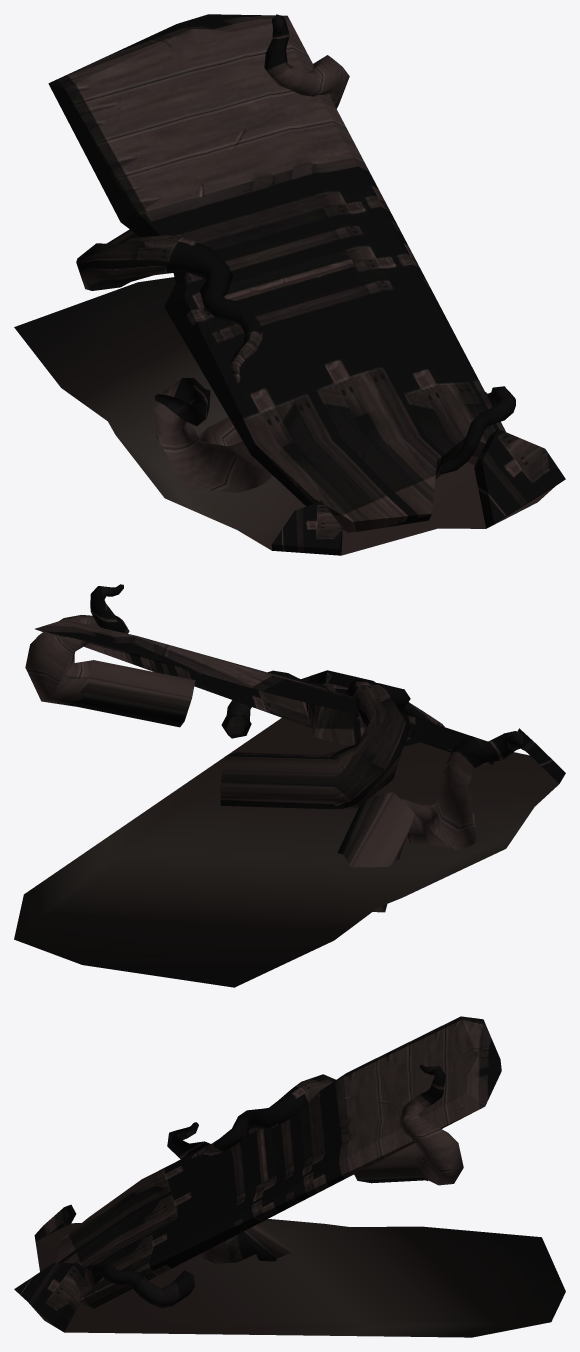
File: modelBoardUp2.fbx
3 views of the same model, one above another, from view 1: azimuth 30°, elevation 25°; view 2: azimuth 150°, elevation 25°; view 3: azimuth 270°, elevation 25° (orthographic). The views are drawn at different scales.
Parts seen in each view (by area): view 1: modelBoardUp; view 2: modelBoardUp; view 3: modelBoardUp.
Part boxes in pixels (x1,y1,x2,y2): modelBoardUp: [14, 14, 565, 555]; modelBoardUp: [14, 584, 565, 987]; modelBoardUp: [14, 1016, 565, 1337].
Size of the model in its own units: 219 by 223 by 381.
